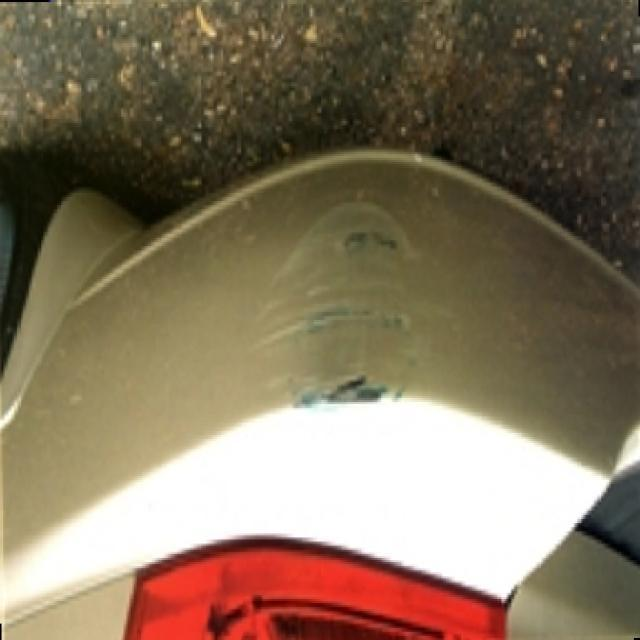scratch: (242, 175, 430, 436)
